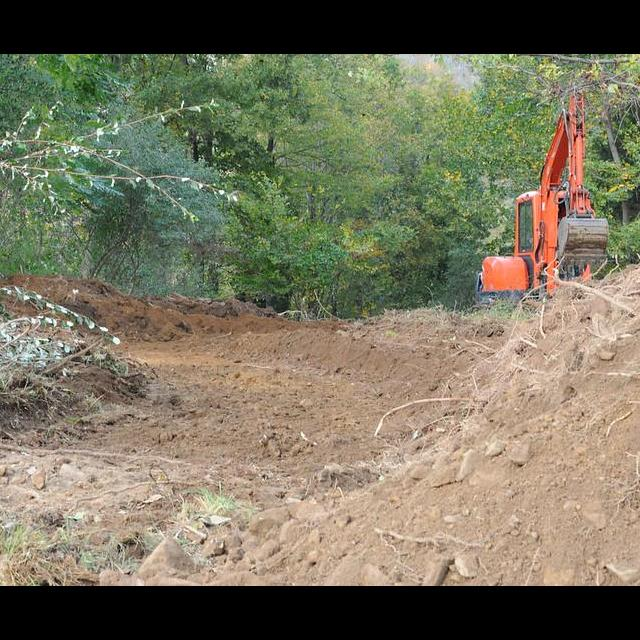Excavator: (479, 89, 612, 304)
